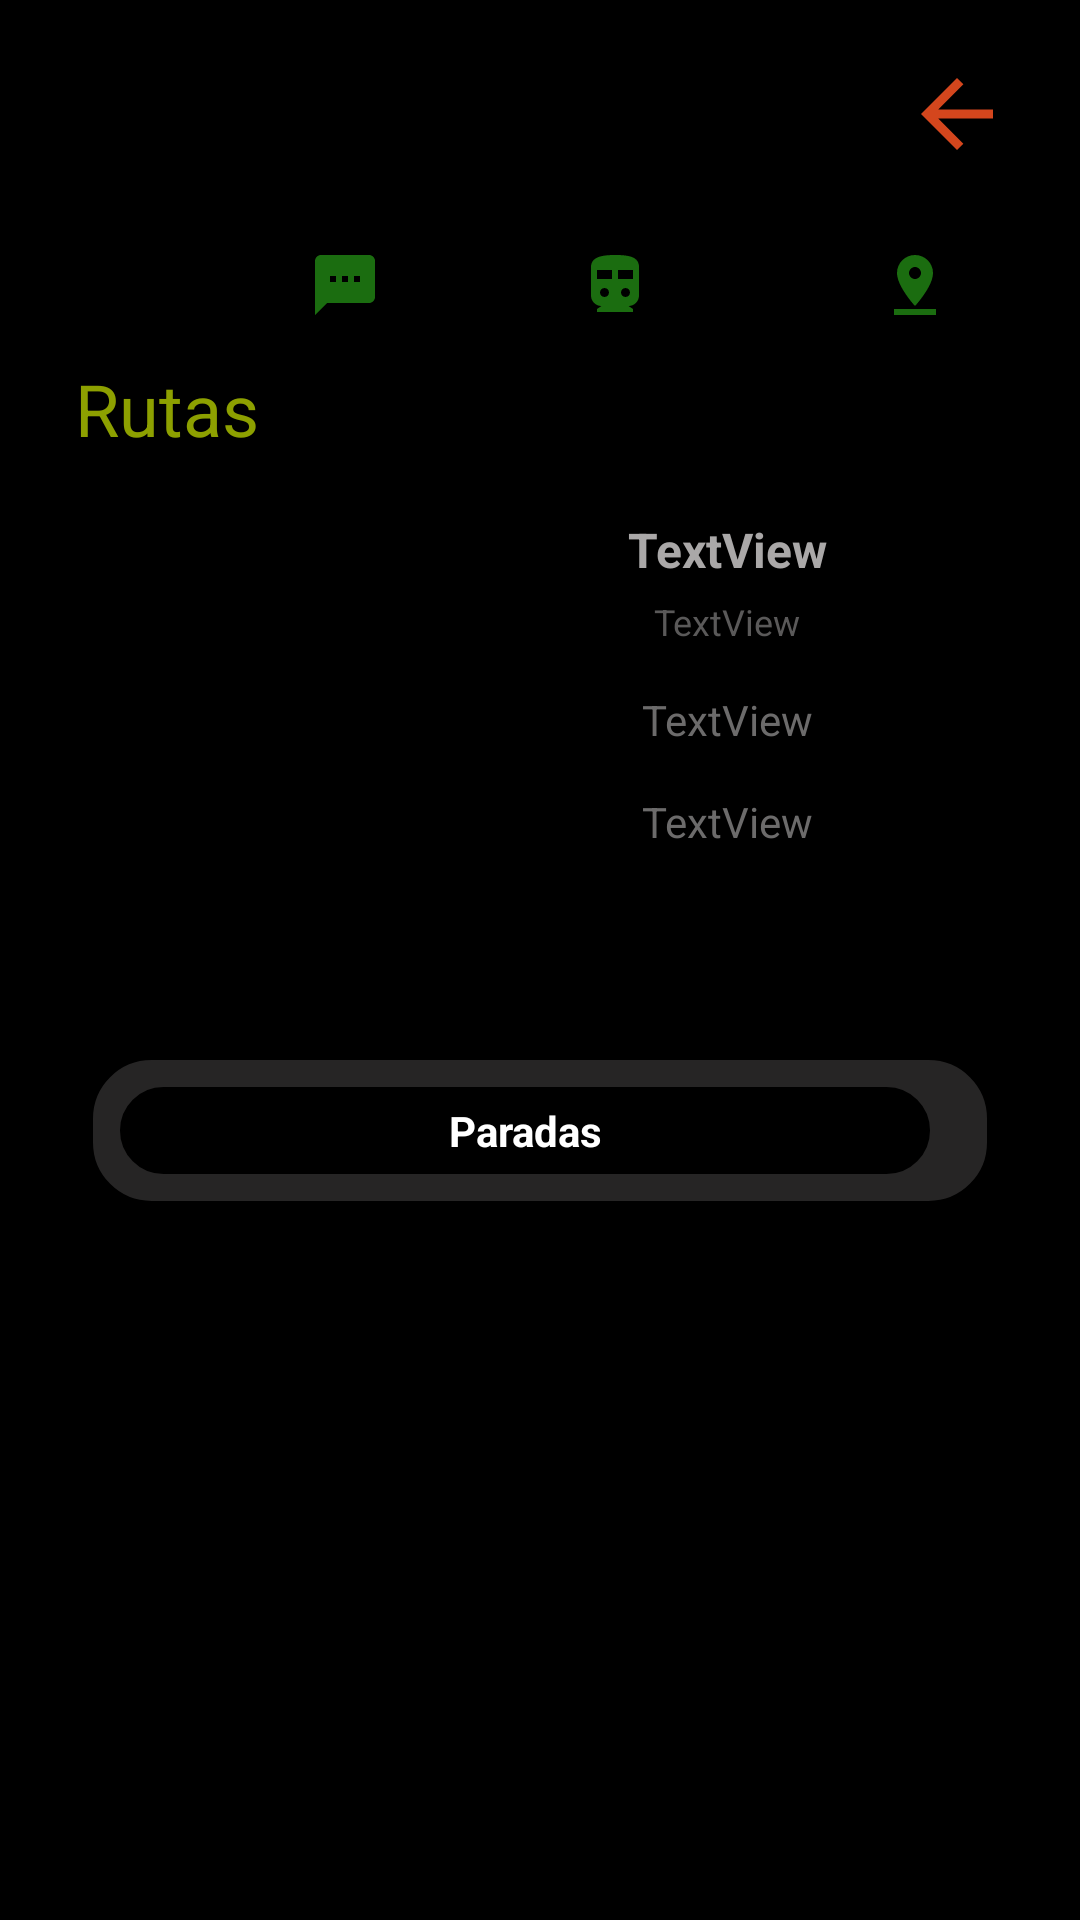

Locate icon controls on the screen. Image size 1080px×1920px, boxes as rect(x1, y1, x2, y2).
back flecha: rect(921, 78, 993, 150)
puntoicono: rect(894, 255, 936, 315)
